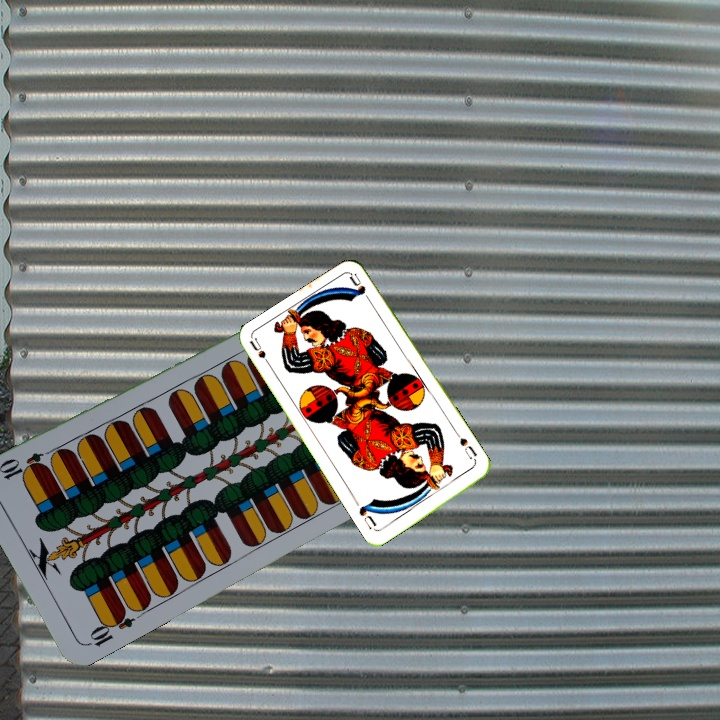E10: (83, 605, 137, 649)
SU: (246, 335, 275, 373), (453, 429, 480, 462)
